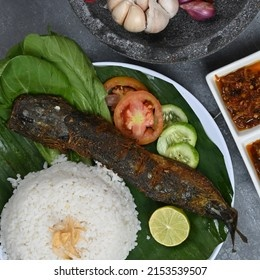pecel_lele: (4, 98, 116, 160)
